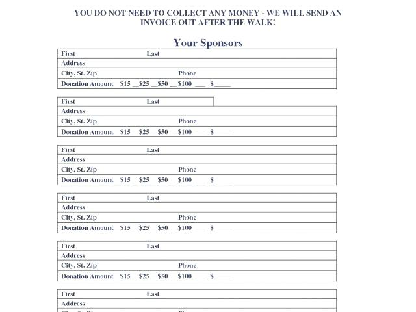textbox: (55, 209, 339, 224), (55, 296, 339, 311), (55, 114, 339, 128), (55, 143, 339, 157), (55, 162, 339, 176), (55, 249, 339, 263), (56, 258, 340, 272), (56, 67, 339, 80), (55, 105, 338, 118), (56, 153, 339, 166), (56, 201, 339, 214), (56, 192, 338, 205), (56, 57, 341, 69), (56, 288, 339, 300), (57, 47, 339, 59), (56, 240, 337, 252), (146, 238, 338, 252), (146, 191, 337, 205), (176, 161, 339, 176), (146, 144, 339, 156), (146, 288, 338, 300), (178, 259, 339, 273), (179, 114, 339, 128), (177, 211, 339, 224), (179, 66, 339, 79), (55, 96, 216, 108), (145, 49, 337, 59), (55, 114, 178, 129), (55, 258, 179, 272), (55, 162, 178, 176), (54, 210, 177, 224), (56, 68, 178, 80), (57, 95, 146, 109), (55, 239, 146, 252), (55, 190, 146, 203), (55, 144, 146, 156), (56, 288, 146, 300), (146, 95, 214, 109), (58, 49, 145, 59)
textline: (213, 224, 232, 233), (214, 272, 232, 281), (213, 176, 230, 185), (214, 127, 230, 136), (214, 80, 231, 88), (192, 80, 207, 88), (193, 176, 205, 185), (193, 224, 206, 232), (193, 129, 206, 136), (167, 272, 177, 281), (167, 80, 178, 88), (194, 272, 205, 280), (150, 127, 159, 136), (168, 127, 177, 136), (130, 176, 139, 185), (168, 176, 177, 185), (149, 80, 159, 88), (130, 128, 140, 136), (131, 79, 139, 88), (149, 177, 158, 185), (168, 225, 177, 233), (130, 272, 138, 281), (150, 272, 158, 281), (150, 224, 158, 232), (131, 224, 138, 233)
